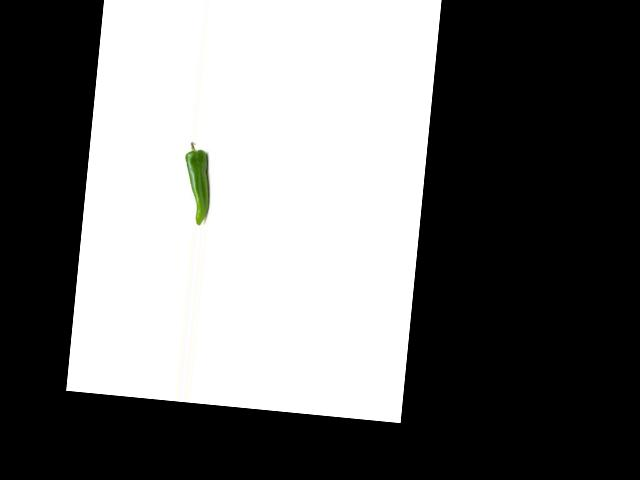bell_pepper: (177, 138, 217, 226)
